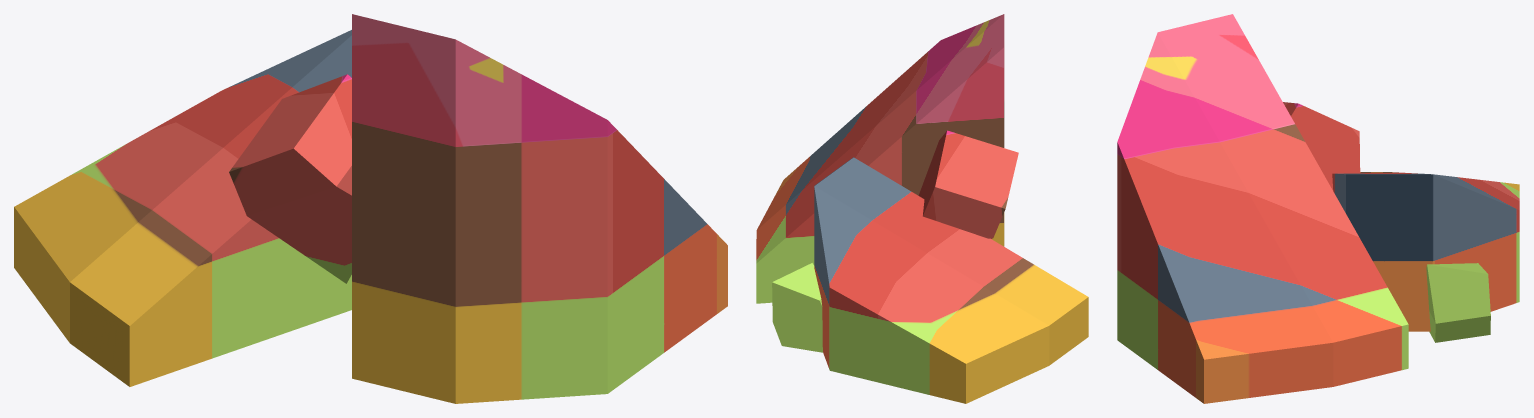
File: rock_16.fbx
3 renders of one model, left to right at view 1: azimuth 30°, elevation 25°; view 2: azimuth 150°, elevation 25°; view 3: azimuth 270°, elevation 25°, orthographic. The views are drawn at different scales.
Visible parts, largest first — view 1: rock_16; view 2: rock_16; view 3: rock_16.
Part boxes in pixels (x1,y1,x2,y2): rock_16: (14,14,727,403); rock_16: (756,14,1088,403); rock_16: (1117,14,1519,403).
Size of the model in its own units: 217 by 144 by 196.
